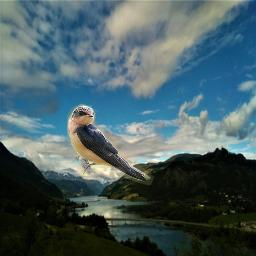Swallow: (67, 101, 155, 185)
